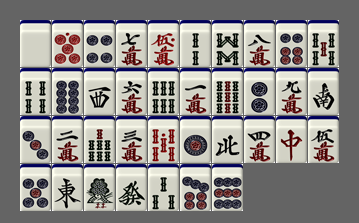0m: (148, 20, 179, 67)
0p: (52, 20, 83, 67)
0s: (148, 116, 179, 163)
1m: (180, 68, 211, 115)
1p: (180, 116, 211, 163)
1s: (84, 164, 115, 211)
1z: (52, 164, 83, 211)
2m: (52, 116, 83, 163)
2p: (244, 68, 275, 115)
2s: (180, 20, 211, 67)
2z: (308, 68, 339, 115)
3m: (116, 116, 147, 163)
3p: (20, 116, 51, 163)
3s: (148, 164, 179, 211)
3z: (84, 68, 115, 115)
4m: (244, 116, 275, 163)
4p: (84, 20, 115, 67)
4s: (20, 68, 51, 115)
4z: (212, 116, 243, 163)
5m: (308, 116, 339, 163)
5p: (20, 164, 51, 211)
5s: (308, 20, 339, 67)
5z: (20, 20, 51, 67)
6m: (116, 68, 147, 115)
6p: (276, 20, 307, 67)
6s: (148, 68, 179, 115)
6z: (116, 164, 147, 211)
7m: (116, 20, 147, 67)
7p: (180, 164, 211, 211)
7s: (84, 116, 115, 163)
7z: (276, 116, 307, 163)
8m: (244, 20, 275, 67)
8p: (52, 68, 83, 115)
8s: (212, 20, 243, 67)
9m: (276, 68, 307, 115)
9p: (212, 164, 243, 211)
9s: (212, 68, 243, 115)
